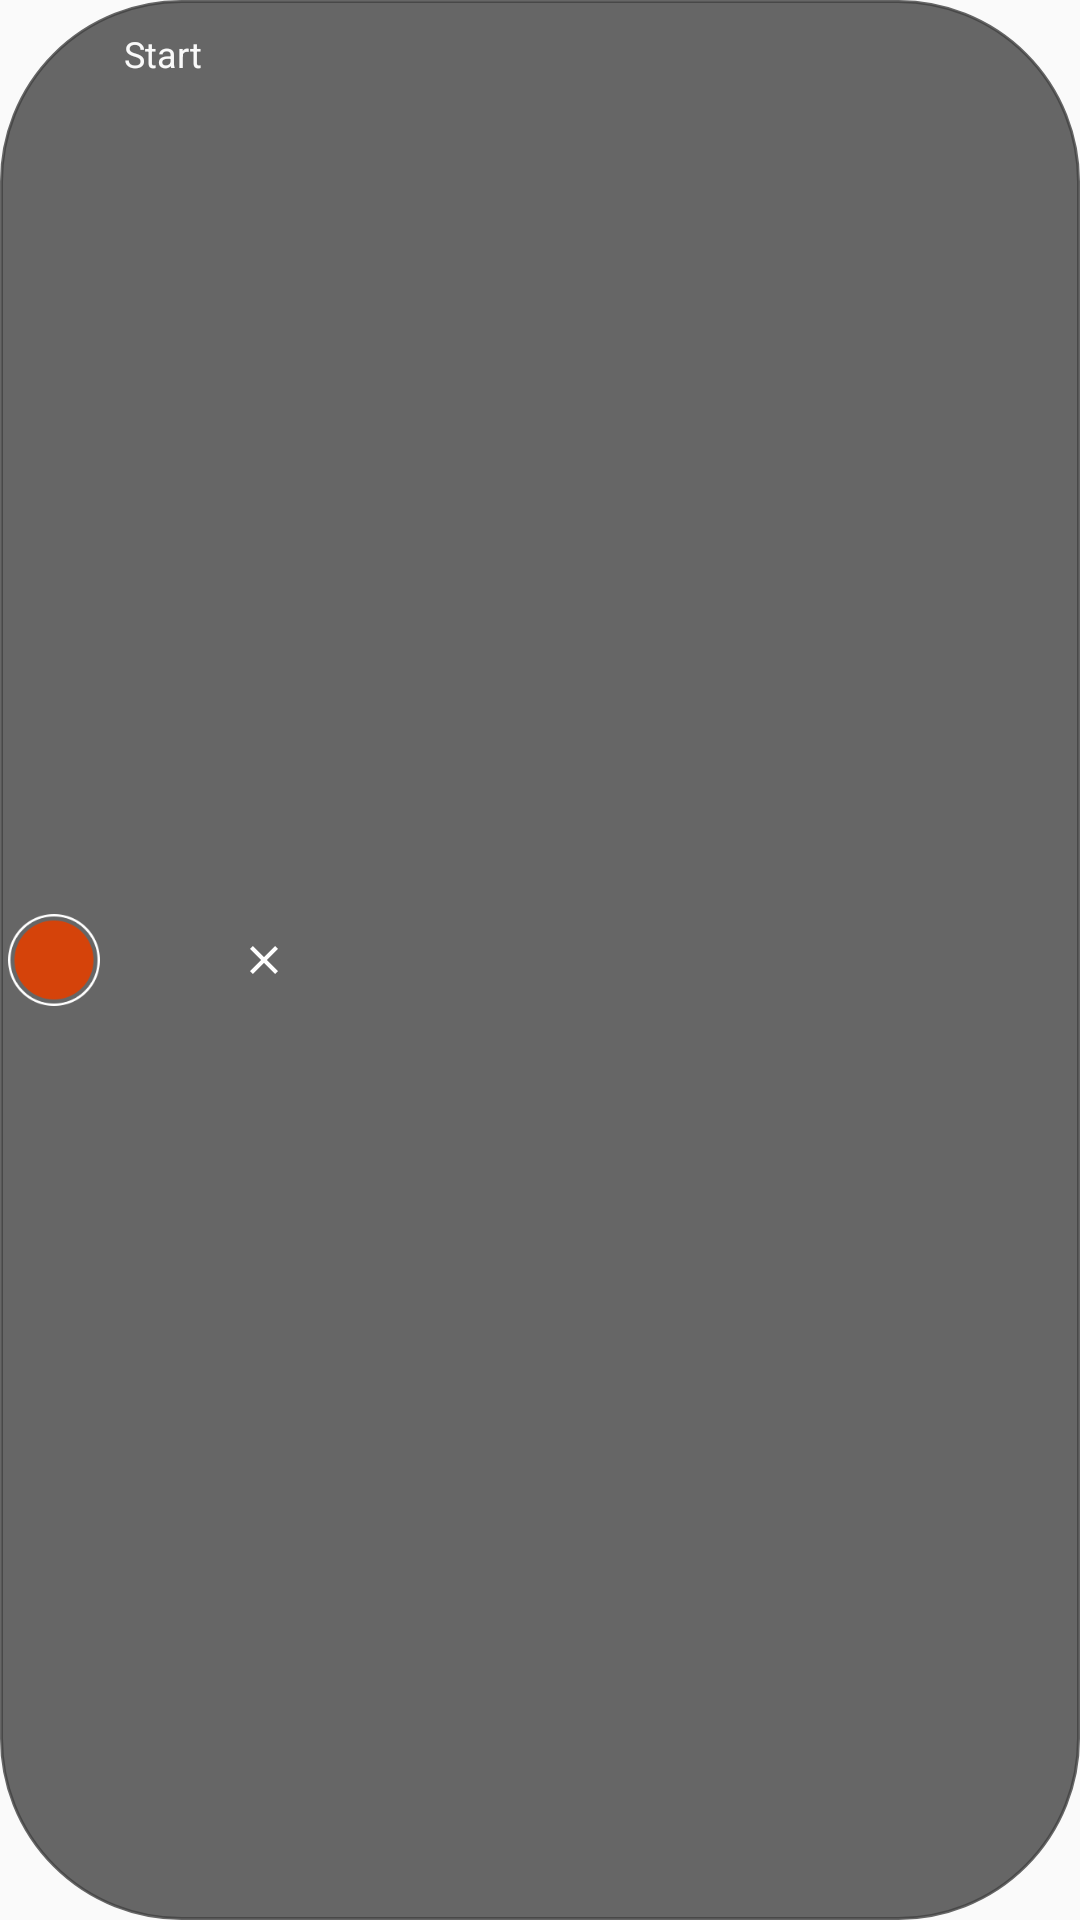

Icons on this 1080px x 1920px Android screen, each with its box as box(x1, y1, x2, y2):
clear: box(250, 946, 278, 974)
